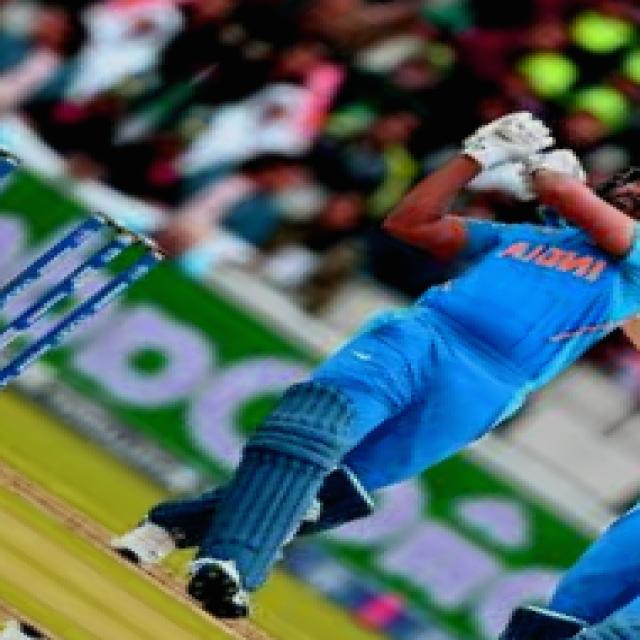toe: (628, 328, 640, 352)
